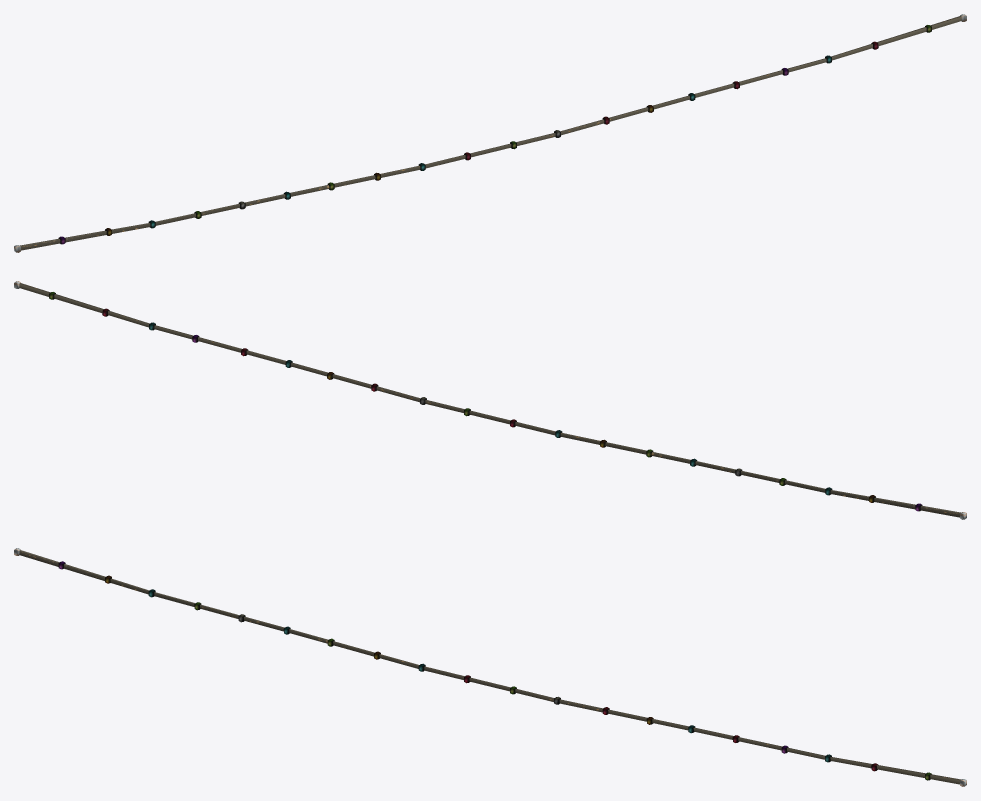
File: shop_cablei01b.fbx
3 views of the same model, one above another, from view 1: azimuth 30°, elevation 25°; view 2: azimuth 150°, elevation 25°; view 3: azimuth 330°, elevation 25° (orthographic).
Parts seen in each view (by area): view 1: shopcable01b; view 2: shopcable01b; view 3: shopcable01b.
Part boxes in pixels (<box>): shopcable01b: <box>14,14,966,252</box>; shopcable01b: <box>14,281,966,519</box>; shopcable01b: <box>14,548,966,786</box>.
Size of the model in its own units: 344 by 8.2 by 1.44.
